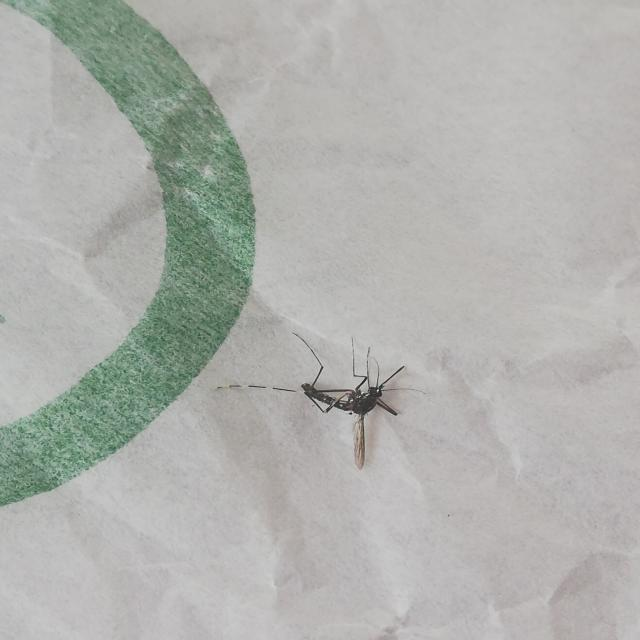albopictus: (231, 325, 428, 467)
